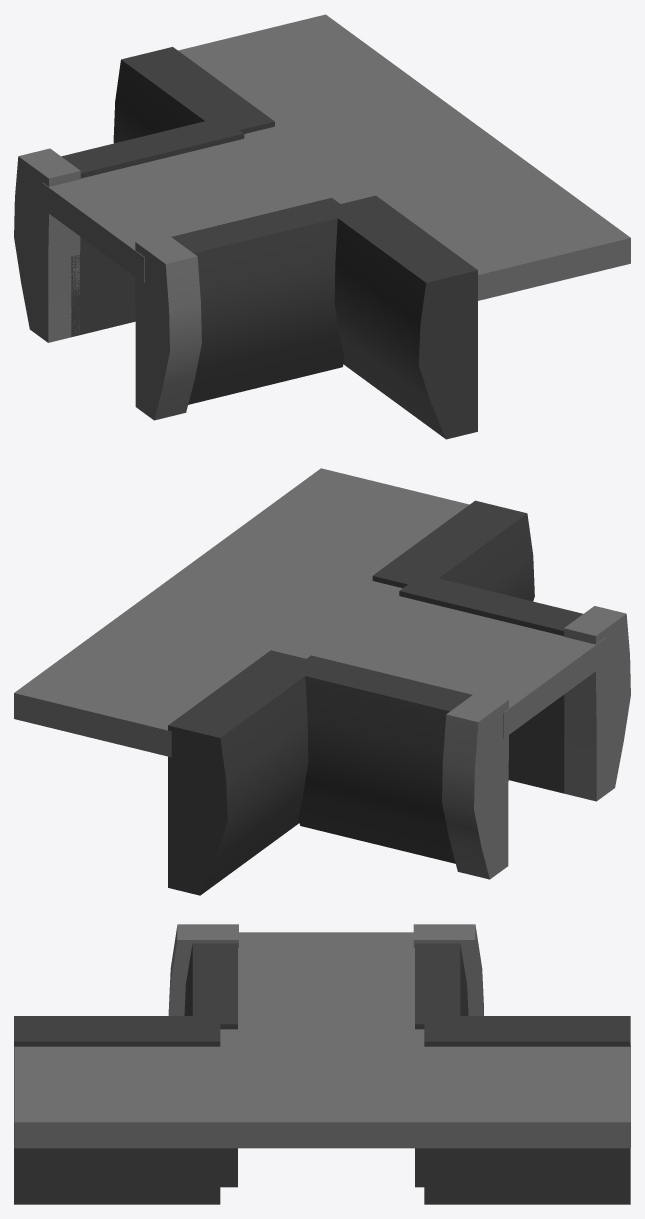
Rendered from mesh_stone_harbour_entrance.fbx.
3 views of the same model, one above another, from view 1: azimuth 30°, elevation 25°; view 2: azimuth 150°, elevation 25°; view 3: azimuth 270°, elevation 25° (orthographic).
Visible parts, largest first — view 1: stone_harbour_entrance; view 2: stone_harbour_entrance; view 3: stone_harbour_entrance.
Boxes of the visible parts, x1,y1,x2,y2 form: stone_harbour_entrance: (14, 14, 630, 439); stone_harbour_entrance: (14, 468, 630, 895); stone_harbour_entrance: (14, 924, 630, 1204).
Size of the model in its own units: 1562 by 639 by 2145.
1 material, 1 textured.
